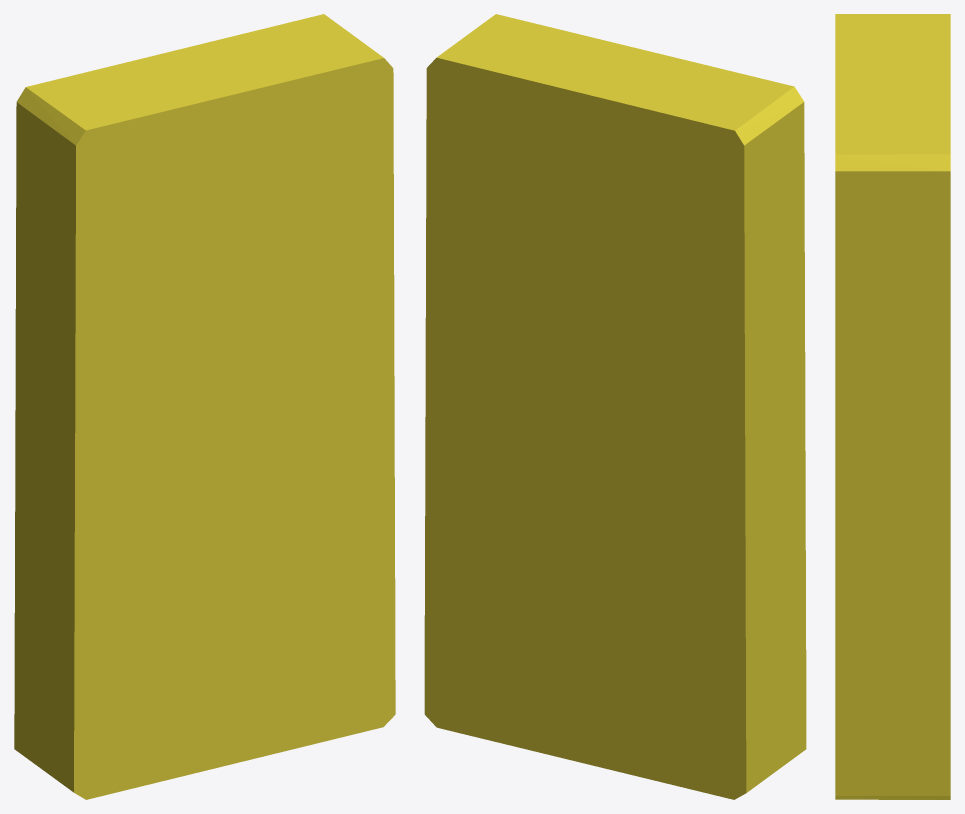
File: ParedeLateralReta.Low.fbx
3 views of the same model, side by side, from view 1: azimuth 30°, elevation 25°; view 2: azimuth 150°, elevation 25°; view 3: azimuth 270°, elevation 25° (orthographic). The views are drawn at different scales.
Parts seen in each view (by area): view 1: ParedeLateralReta.Low; view 2: ParedeLateralReta.Low; view 3: ParedeLateralReta.Low.
Boxes of the visible parts, box(x1,y1,x2,y2) form: ParedeLateralReta.Low: box(14, 14, 395, 799); ParedeLateralReta.Low: box(424, 14, 806, 799); ParedeLateralReta.Low: box(835, 14, 950, 799).
Size of the model in its own units: 195 by 388 by 62.8.
